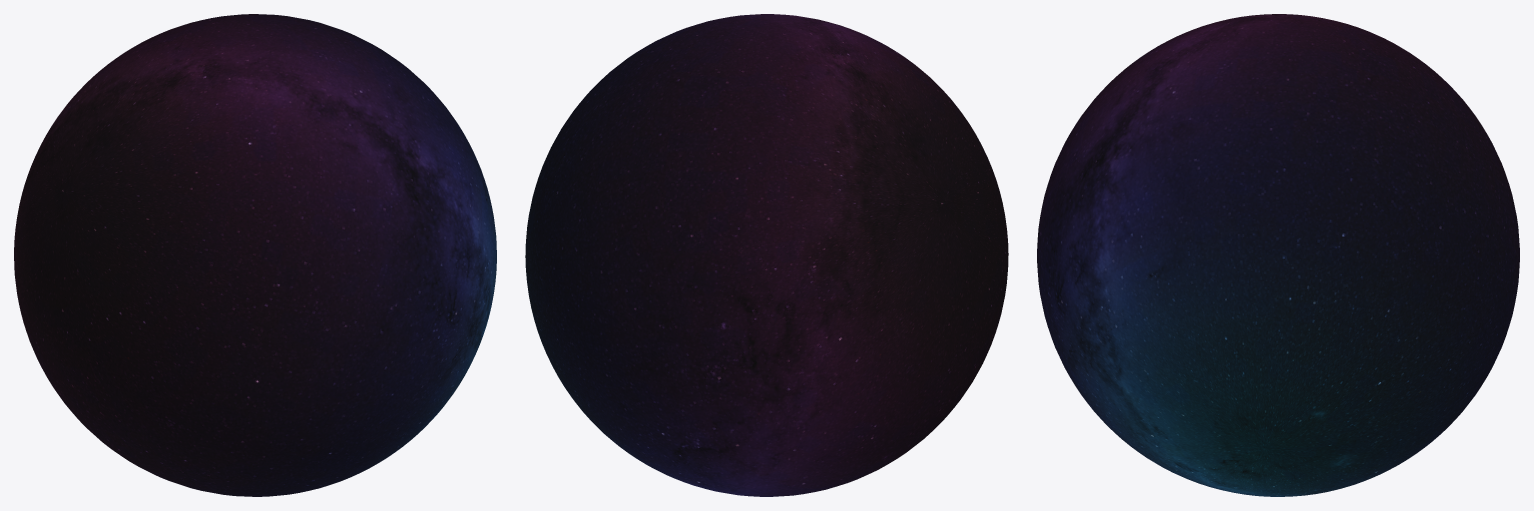
File: sky.glb
The picture shows the model from 3 angles, left to right: view 1: azimuth 30°, elevation 25°; view 2: azimuth 150°, elevation 25°; view 3: azimuth 270°, elevation 25°; orthographic projection.
Parts seen in each view (by area): view 1: Sphere_2; view 2: Sphere_2; view 3: Sphere_2.
Boxes of the visible parts, <box> form: Sphere_2: <box>14,14,496,496</box>; Sphere_2: <box>525,14,1008,496</box>; Sphere_2: <box>1037,14,1519,496</box>.
Size of the model in its own units: 181 by 181 by 181.
Materials: 1 (1 with a texture image).
